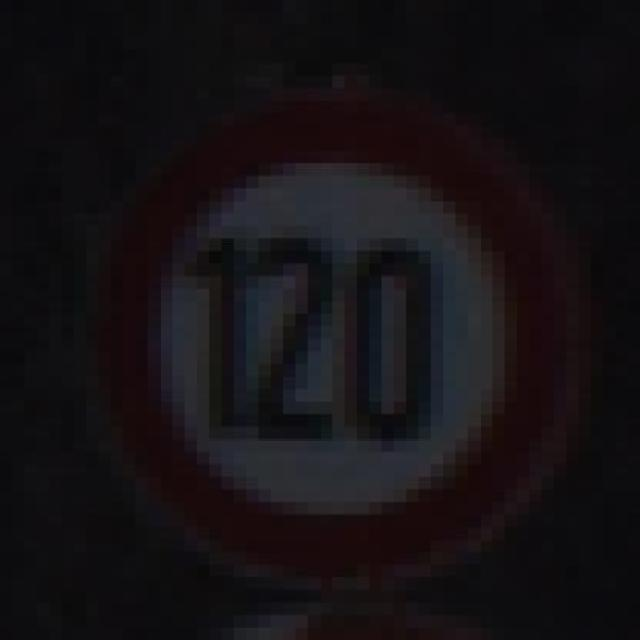forb_speed_over_120: (112, 100, 556, 572)
